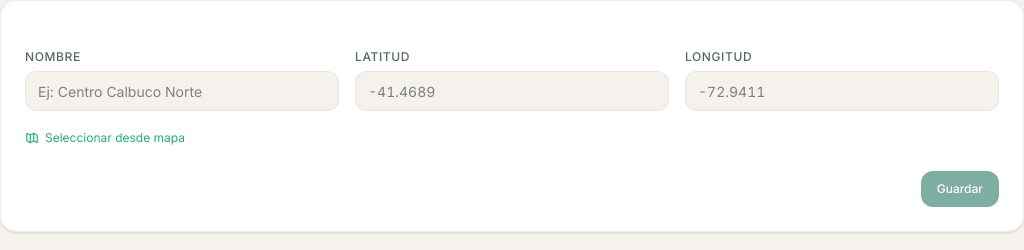
Test: CentroCreateForm › Toggle del mapa › debería alternar entre mostrar y ocultar mapa
The image size is (1024, 250).
Click the button "Seleccionar desde mapa" at (105, 138), box [25,130,185,146]
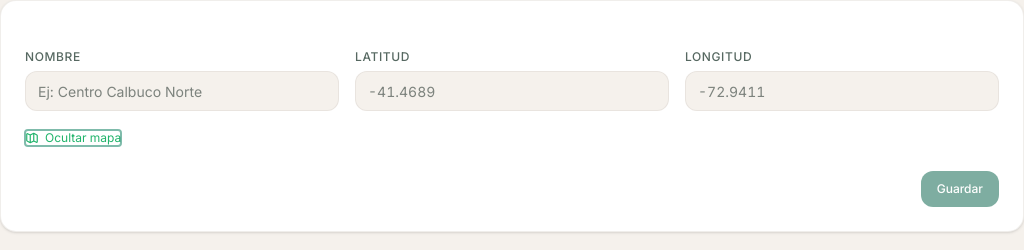
Check: the button "Ocultar mapa" is shown
Click the button "Ocultar mapa" at (73, 138), box [25,130,121,146]
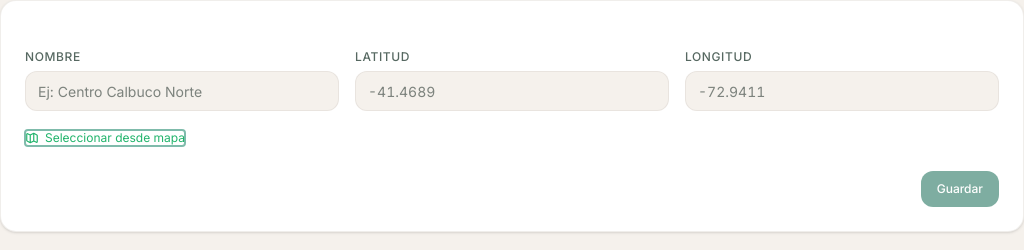
Check: the button "Seleccionar desde mapa" is shown, box [25,130,185,146]
